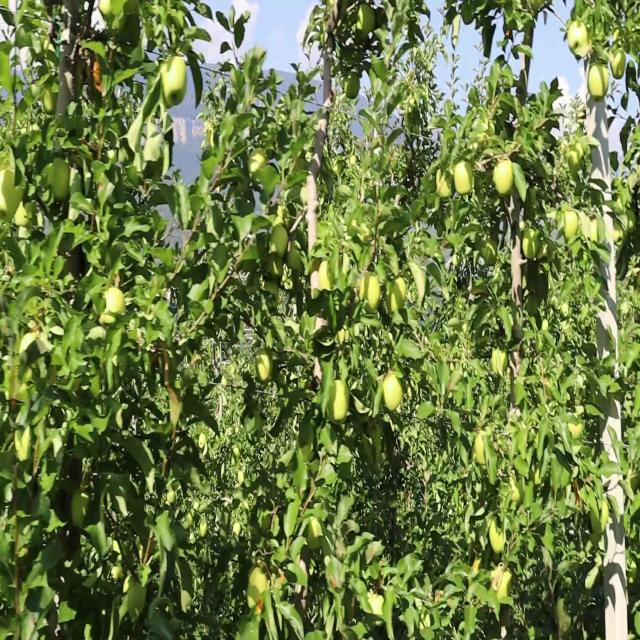apple: (160, 56, 188, 110), (100, 284, 127, 327), (356, 270, 382, 313), (248, 568, 269, 615), (48, 163, 72, 203), (384, 369, 404, 412), (588, 63, 610, 101), (4, 170, 23, 213), (252, 568, 268, 617), (332, 383, 351, 423), (492, 568, 513, 603), (388, 277, 408, 313), (568, 21, 588, 57), (248, 149, 268, 183), (496, 163, 515, 197), (356, 7, 376, 39), (92, 56, 107, 96), (456, 163, 475, 194), (268, 227, 288, 256), (436, 170, 455, 199), (0, 191, 19, 220), (288, 241, 304, 274), (524, 227, 538, 263), (612, 49, 628, 80), (92, 56, 105, 94), (344, 71, 361, 100), (100, 0, 123, 21), (564, 213, 580, 242), (568, 142, 584, 171), (308, 519, 323, 548), (492, 519, 504, 555), (320, 263, 334, 293), (492, 348, 507, 375), (476, 433, 487, 468), (100, 0, 119, 20), (484, 241, 498, 268), (568, 419, 584, 441), (612, 220, 625, 247), (597, 504, 609, 533), (16, 206, 31, 228), (260, 355, 272, 382), (264, 277, 280, 297), (44, 92, 58, 114), (588, 220, 600, 244), (272, 255, 284, 279), (452, 14, 462, 41), (112, 270, 125, 290), (600, 504, 609, 532), (312, 277, 322, 299), (584, 35, 594, 57), (340, 327, 350, 348), (332, 7, 342, 27), (576, 106, 587, 124), (472, 561, 481, 574), (624, 92, 629, 112), (236, 526, 241, 537)
